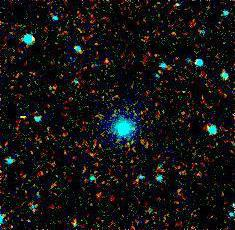star: (10, 108, 40, 138)
